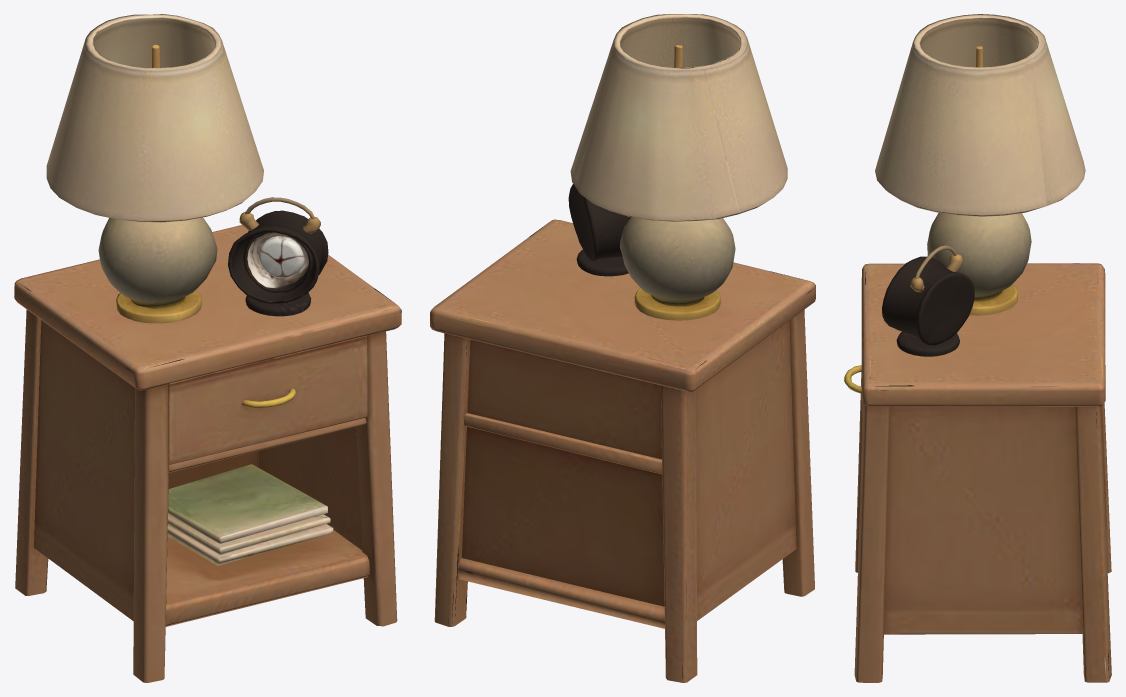
File: nightstand_decor.glb
3 views of the same model, side by side, from view 1: azimuth 30°, elevation 25°; view 2: azimuth 150°, elevation 25°; view 3: azimuth 270°, elevation 25° (orthographic). The views are drawn at different scales.
Parts seen in each view (by area): view 1: geometry_0; view 2: geometry_0; view 3: geometry_0.
Part boxes in pixels (<box>): geometry_0: <box>14,14,401,682</box>; geometry_0: <box>430,14,815,682</box>; geometry_0: <box>844,14,1111,682</box>.
Size of the model in its own units: 0.5126 by 1 by 0.4367.
Materials: 1 (1 with a texture image).
